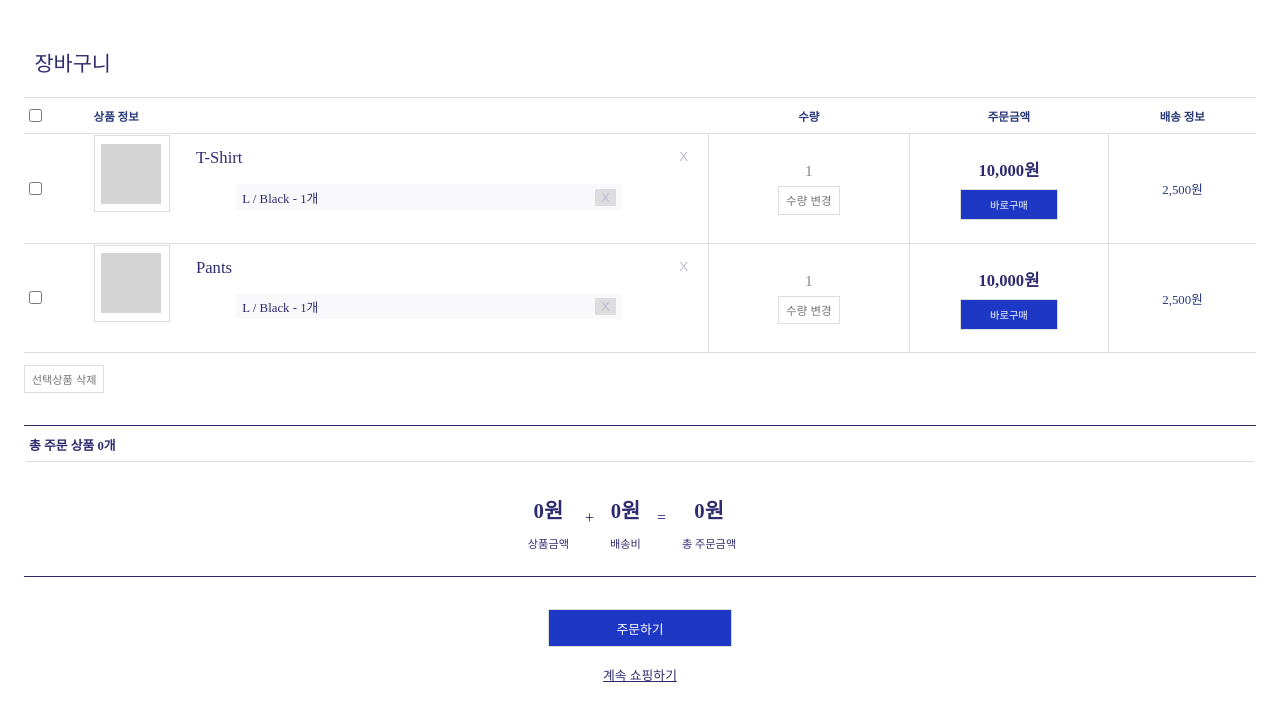
Scenario: Cart › 체크박스 › 카트에 있는 모든 아이템을 체크했을 경우 › 전체선택 체크박스가 체크되어 있는 것을 볼 수 있다
Check: the checkbox named "전체선택" next to "상품 정보" is not checked, box [29,109,42,122]
Step 1. Click the checkbox named "T-Shirt" below "T-Shirt" → {"x": 36, "y": 188}, box [29,182,42,195]
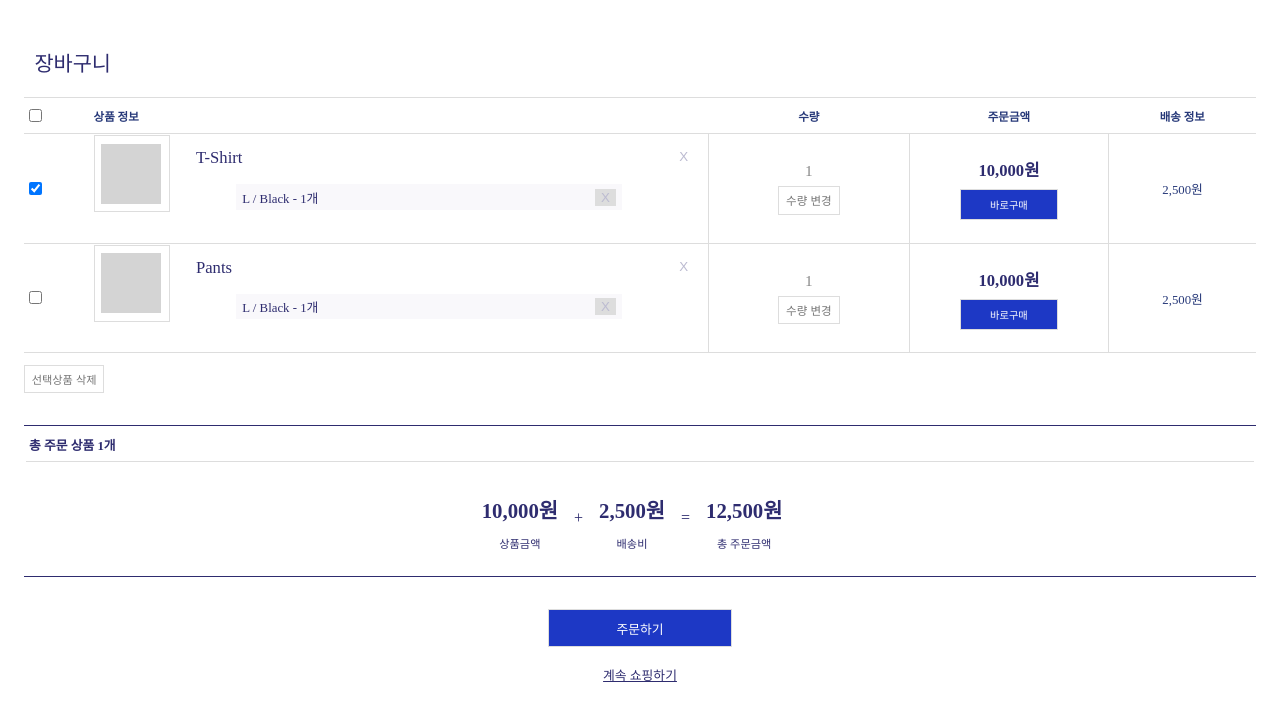
Step 2. Click the checkbox named "Pants" below "Pants" → {"x": 36, "y": 298}, box [29,291,42,304]
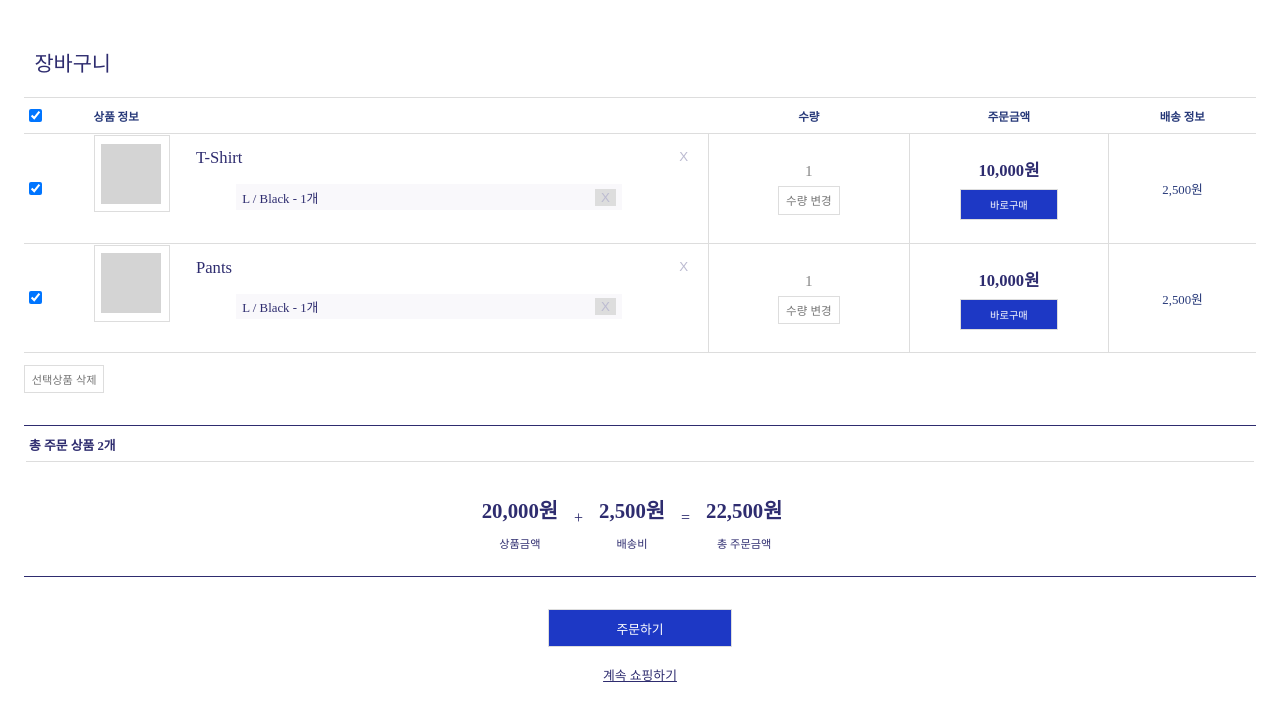
Check: the checkbox named "전체선택" next to "상품 정보" is checked, box [29,109,42,122]
Check: the column heading "총 주문 상품 2개" is shown, box [28,434,117,455]
